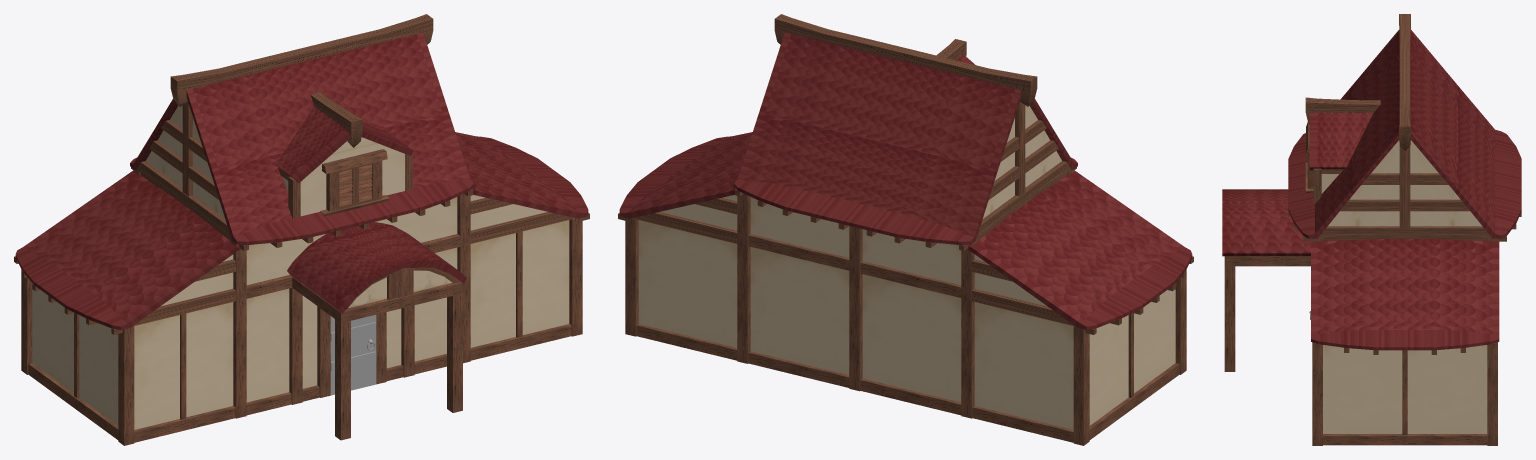
Rendered from House3_FBX.fbx.
3 renders of one model, left to right at view 1: azimuth 30°, elevation 25°; view 2: azimuth 150°, elevation 25°; view 3: azimuth 270°, elevation 25°, orthographic. The views are drawn at different scales.
Visible parts, largest first — view 1: House3; view 2: House3; view 3: House3.
Part boxes in pixels (left/top/right/bottom): House3: left=14, top=14, right=589, bottom=445; House3: left=618, top=14, right=1193, bottom=445; House3: left=1222, top=14, right=1521, bottom=445.
Size of the model in its own units: 1800 by 1040 by 1027.
